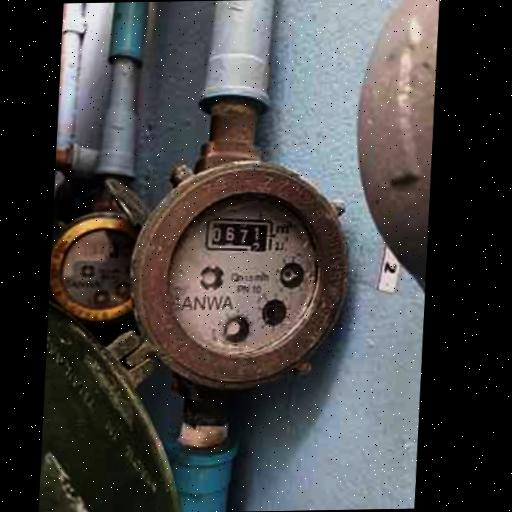0: (212, 224, 226, 246)
1: (250, 224, 269, 251)
7: (237, 224, 253, 246)
8: (223, 223, 239, 245)
border_water_meter_number: (203, 217, 275, 252)
